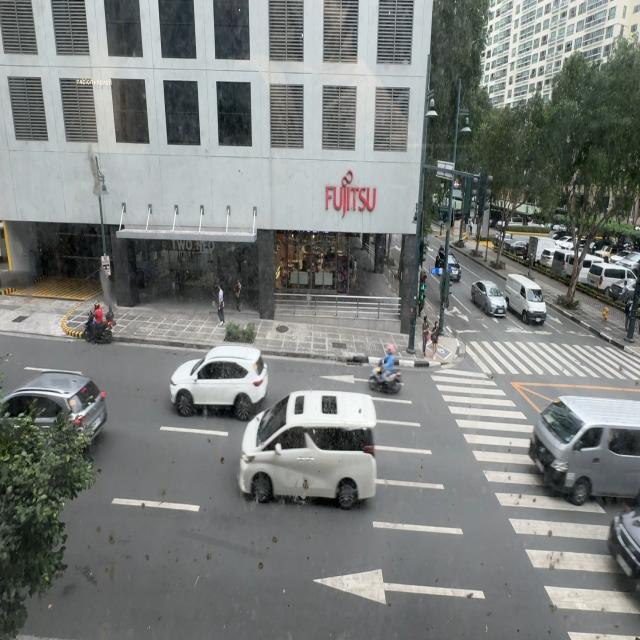pedestrain: (217, 283, 225, 326), (234, 278, 242, 311)
waiting: (422, 316, 430, 357), (431, 321, 440, 356)
